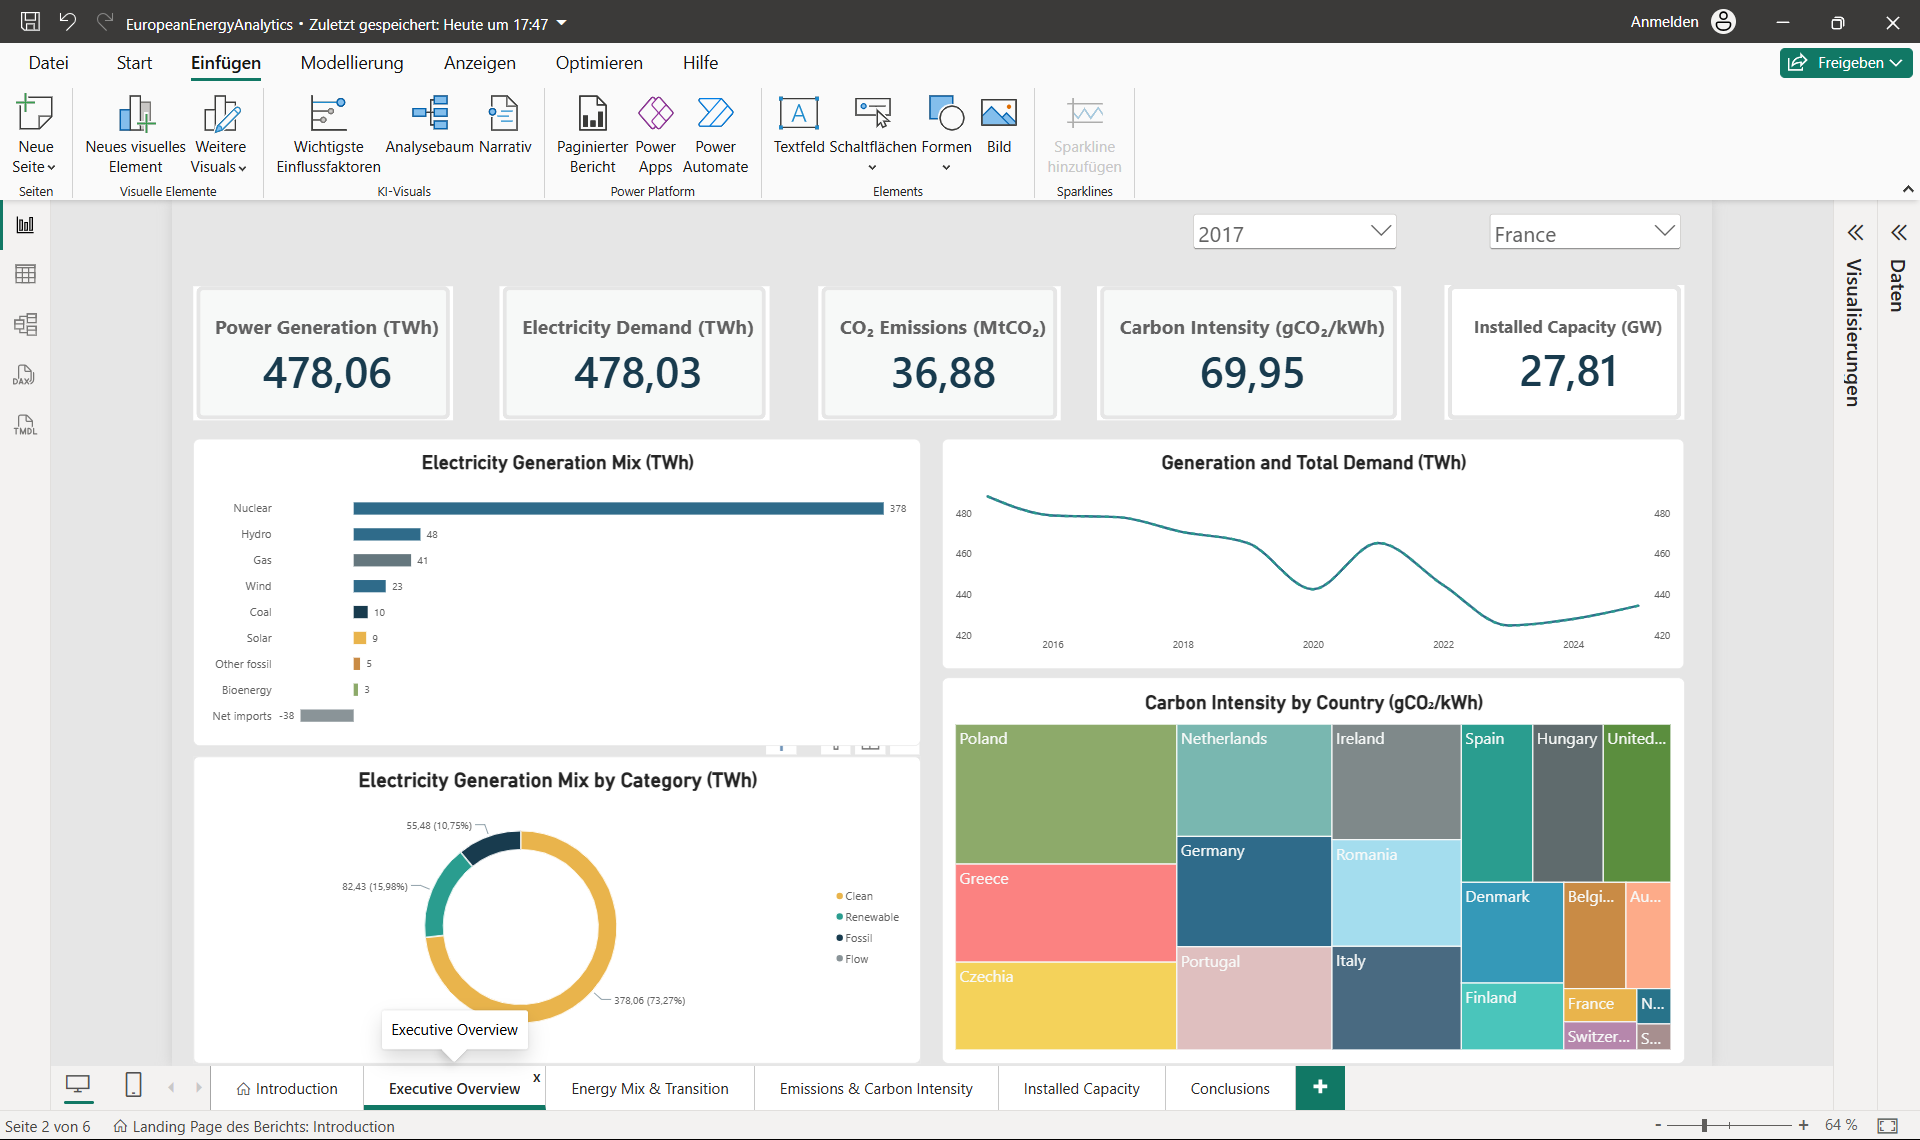

The page's visual inventory and layout, read from the dashboard file:
{"tool":"powerbi","page":{"name":"Executive Overview","canvas":[1920,1080],"ordinal":1},"visuals":[{"type":"slicer","fields":{"Values":["dim_country.country_name"]},"box":[1638.4,12.5,247.9,49.9],"z":0},{"type":"slicer","fields":{"Values":["dim_date.year"]},"box":[1268.9,12.5,263.5,63.9],"z":1000},{"type":"cardVisual","title":"Installed Capacity","fields":{"Data":["Energy_Measures.Capacity GW (Non-Aggregate)"]},"box":[1587,106,299.3,168.4],"z":2000},{"type":"cardVisual","title":"Installed Capacity","fields":{"Data":["Energy_Measures.Average Carbon Intensity"]},"box":[1153.6,107.6,378.8,166.8],"z":3000},{"type":"cardVisual","title":"Installed Capacity","fields":{"Data":["Energy_Measures.Emissions MtCO2 (Non-Aggregate)"]},"box":[806,107.6,302.4,166.8],"z":4000},{"type":"cardVisual","title":"Installed Capacity","fields":{"Data":["Energy_Measures.Total Demand TWh"]},"box":[408.4,107.6,336.7,166.8],"z":5000},{"type":"cardVisual","title":"Installed Capacity","fields":{"Data":["Energy_Measures.Generation TWh (Non-Aggregate)"]},"box":[26.5,107.6,324.3,166.8],"z":6000},{"type":"lineChart","title":"Generation and Total Demand (TWh)","fields":{"Category":["dim_date.date.Variation.Datumshierarchie.Jahr"],"Y":["Energy_Measures.Generation TWh (Non-Aggregate)"],"Y2":["Energy_Measures.Total Demand TWh"]},"box":[960,297.1,925.7,287.1],"z":7000},{"type":"donutChart","title":"Electricity Generation Mix by Category (TWh)","fields":{"Category":["dim_energy_series.energy_category"],"Y":["Energy_Measures.Generation TWh (Non-Aggregate)"]},"box":[26.5,693.7,907.3,383.5],"z":8000},{"type":"treemap","title":"Carbon Intensity by Country (gCO₂/kWh)","fields":{"Values":["Energy_Measures.Average Carbon Intensity"],"Group":["dim_country.country_name"]},"box":[960,596.2,926.2,481.2],"z":9000},{"type":"barChart","title":"Electricity Generation Mix (TWh)","fields":{"Category":["dim_energy_series.series_name"],"Y":["Energy_Measures.Generation TWh (Non-Aggregate)"]},"box":[26.5,297.7,907.3,383.5],"z":10000}]}

Visuals, with their boxes on the page's 1920x1080 design canvas (x1, y1, x2, y2). These are canvas units, not pixel positions in the 1920x1140 screenshot, which may show the page scaled, cropped or inside an application window:
slicer - dim_country.country_name: l=1638, t=12, r=1886, b=62
slicer - dim_date.year: l=1269, t=12, r=1532, b=76
"Installed Capacity" cardVisual: l=1587, t=106, r=1886, b=274
"Installed Capacity" cardVisual: l=1154, t=108, r=1532, b=274
"Installed Capacity" cardVisual: l=806, t=108, r=1108, b=274
"Installed Capacity" cardVisual: l=408, t=108, r=745, b=274
"Installed Capacity" cardVisual: l=26, t=108, r=351, b=274
"Generation and Total Demand (TWh)" lineChart: l=960, t=297, r=1886, b=584
"Electricity Generation Mix by Category (TWh)" donutChart: l=26, t=694, r=934, b=1077
"Carbon Intensity by Country (gCO₂/kWh)" treemap: l=960, t=596, r=1886, b=1077
"Electricity Generation Mix (TWh)" barChart: l=26, t=298, r=934, b=681
